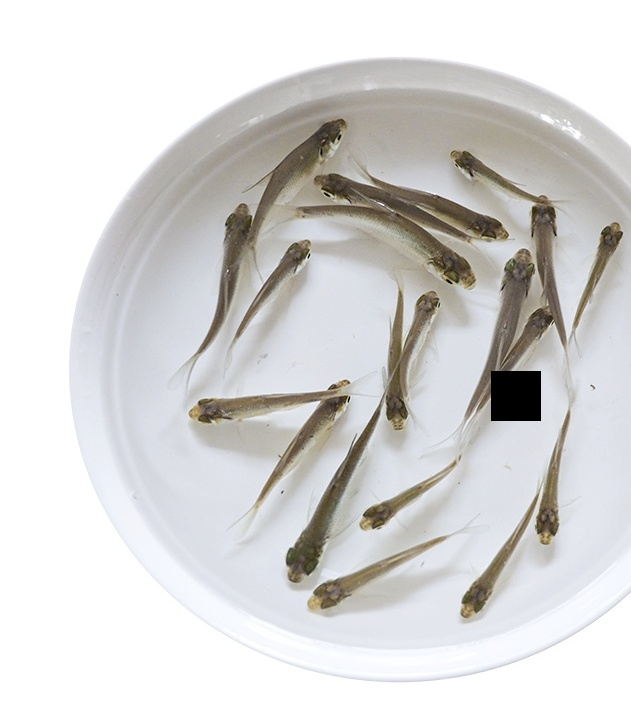fry: (574, 210, 630, 332), (263, 114, 350, 191), (300, 562, 414, 619), (204, 194, 259, 306), (353, 478, 449, 542), (291, 360, 350, 463), (175, 388, 306, 434), (534, 431, 582, 555), (265, 491, 328, 583), (403, 227, 481, 295), (450, 526, 505, 620), (441, 134, 517, 201), (482, 236, 541, 322), (261, 227, 320, 308), (435, 194, 516, 251), (522, 177, 568, 267), (520, 296, 561, 365), (312, 166, 370, 204)
